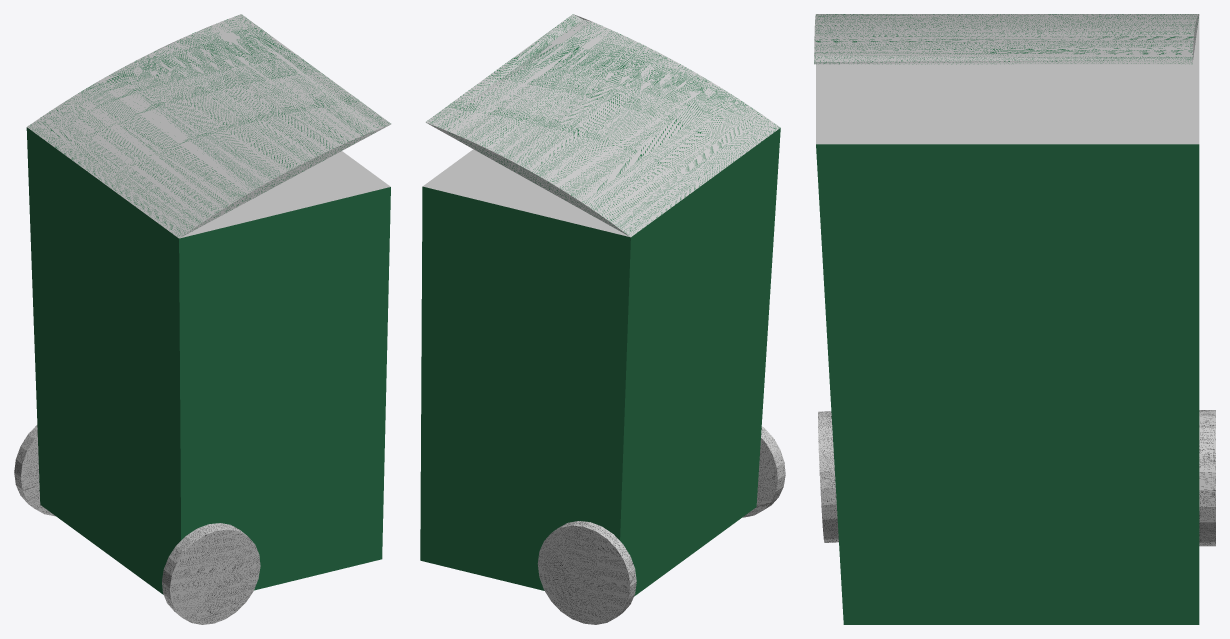
3 renders of one model, left to right at view 1: azimuth 30°, elevation 25°; view 2: azimuth 150°, elevation 25°; view 3: azimuth 270°, elevation 25°, orthographic. The views are drawn at different scales.
Visible parts, largest first — view 1: mesh1_mesh1-geometry, mesh2_mesh2-geometry; view 2: mesh1_mesh1-geometry, mesh2_mesh2-geometry; view 3: mesh1_mesh1-geometry, mesh2_mesh2-geometry.
Part boxes in pixels (x1,y1,x2,y2): mesh1_mesh1-geometry: (26,14,391,624); mesh2_mesh2-geometry: (14,425,55,516); mesh1_mesh1-geometry: (420,14,785,596); mesh2_mesh2-geometry: (537,521,636,624); mesh1_mesh1-geometry: (814,14,1199,624); mesh2_mesh2-geometry: (1199,410,1215,546).
Bounding box in the file's own units: 0.3913 × 0.7796 × 0.4891.
